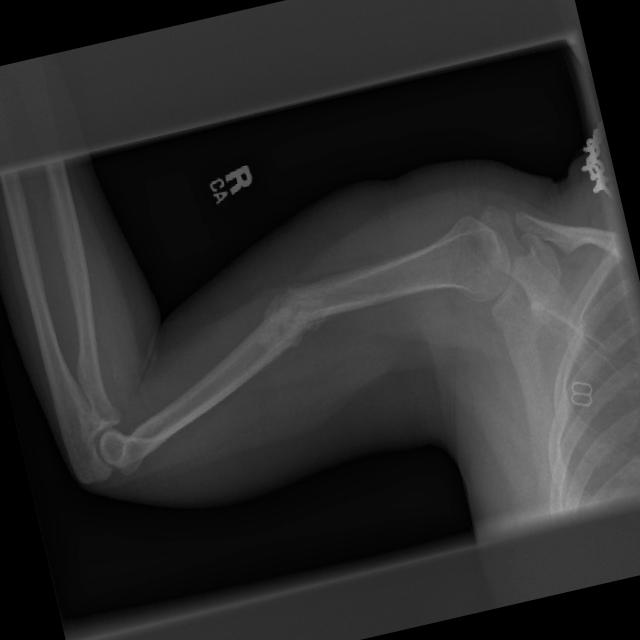humerus fracture: (204, 239, 382, 424)
